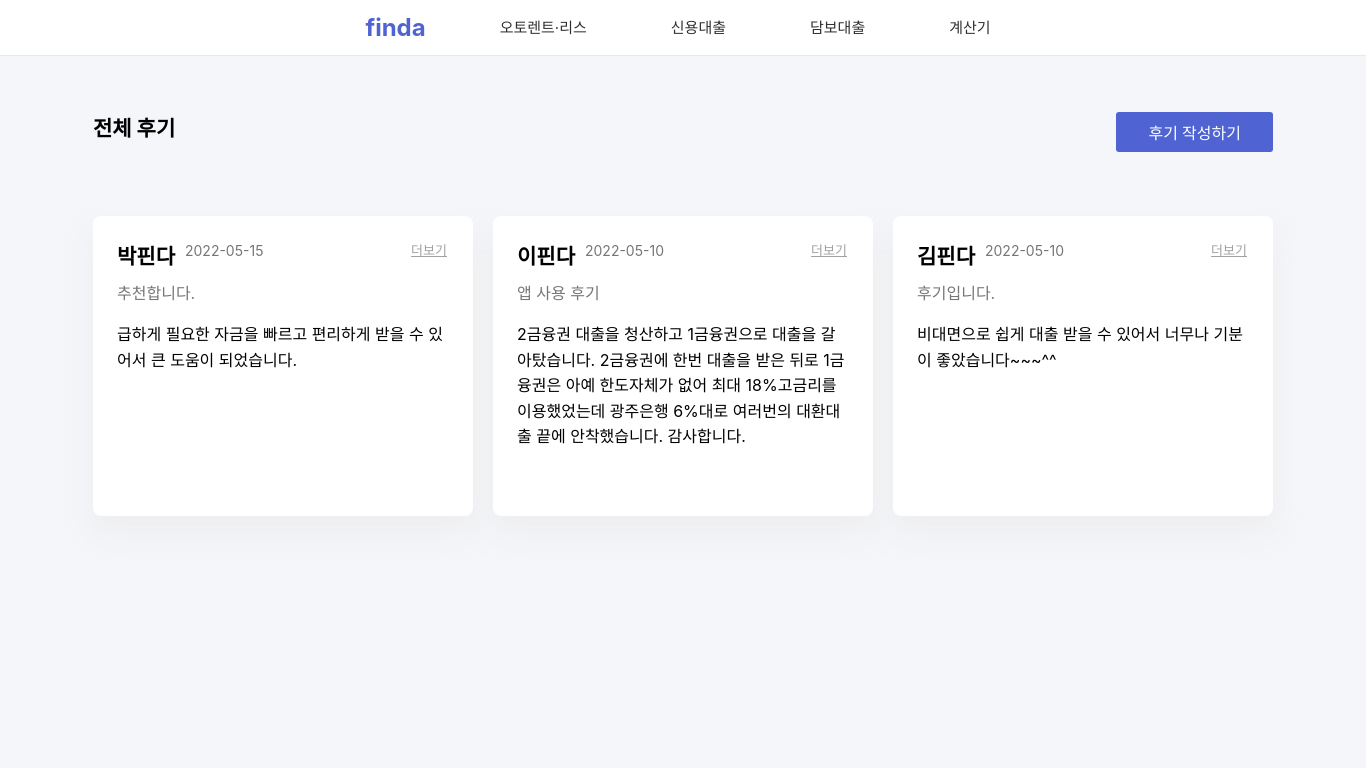
Test: React CRUD › 후기 작성하기
Click the link "후기 작성하기". click: {"x": 1195, "y": 132}
box: [1116, 112, 1273, 152]
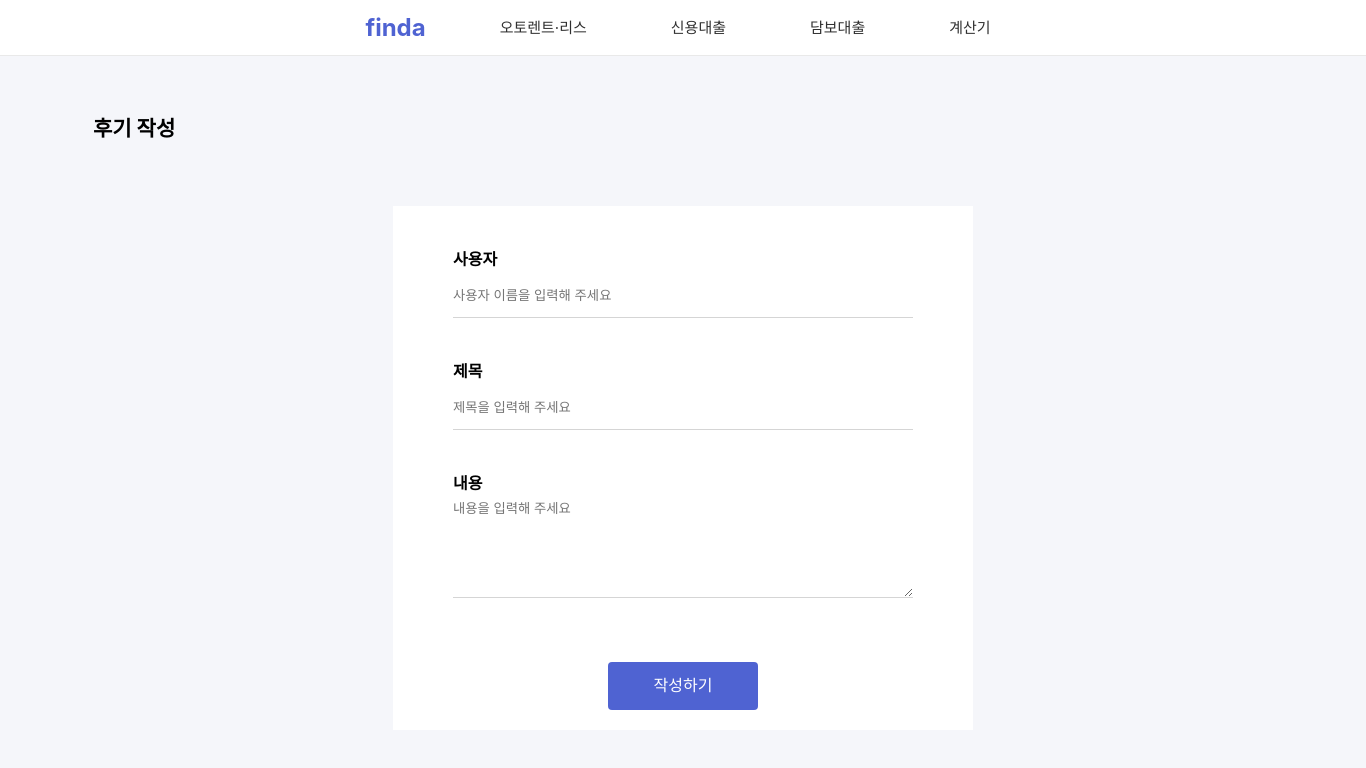
Type "최핀다" into the field with id "user-input". click: {"x": 683, "y": 296}
box: [453, 273, 913, 318]
Then press Enter
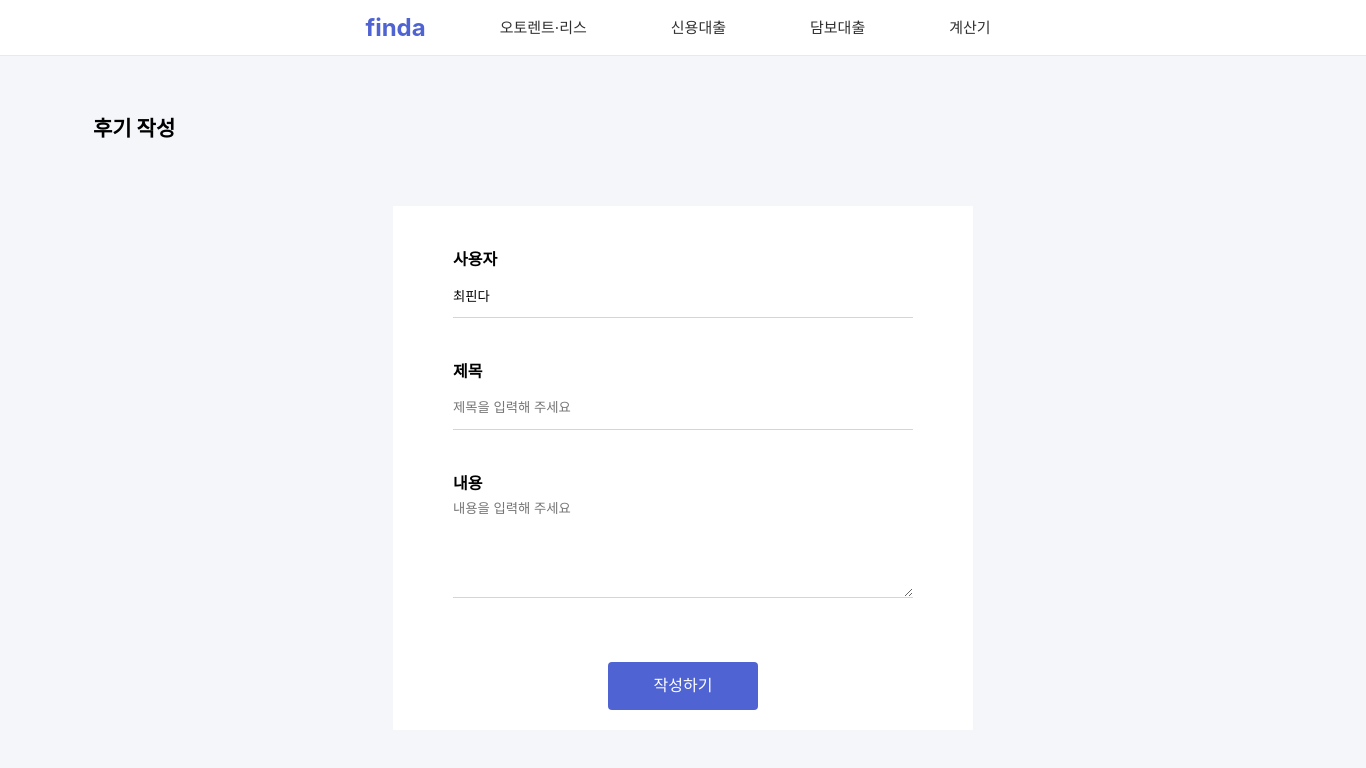
Type "핀다 후기입니다." into the field with id "title-input". click: {"x": 683, "y": 408}
box: [453, 385, 913, 430]
Then press Enter
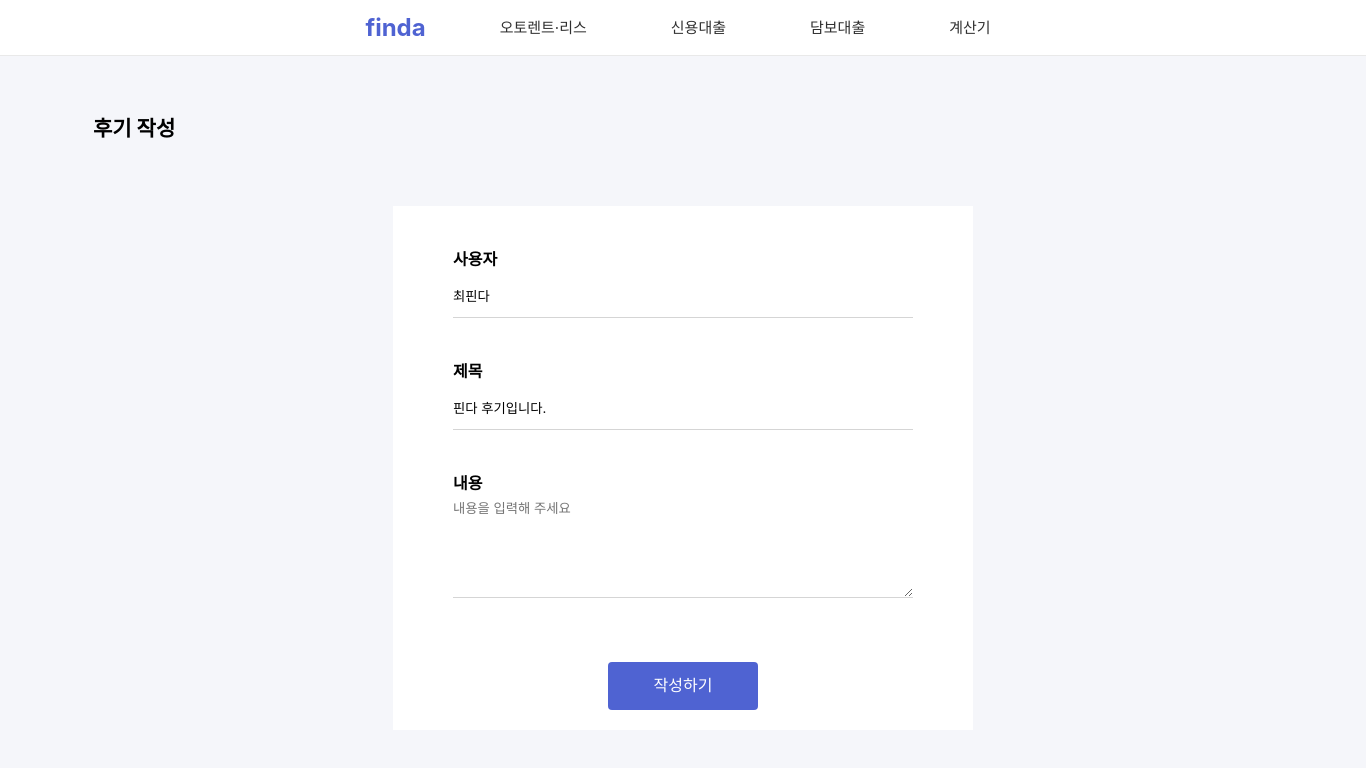
Type "여러 곳을 알아봐도 핀다에서 조회한 상품이 제일 만족스러워서 진행하였고, 결과 또한 만족스러웠습니다." into the text box with id "body-input". click: {"x": 683, "y": 548}
box: [453, 498, 913, 598]
Then press Enter
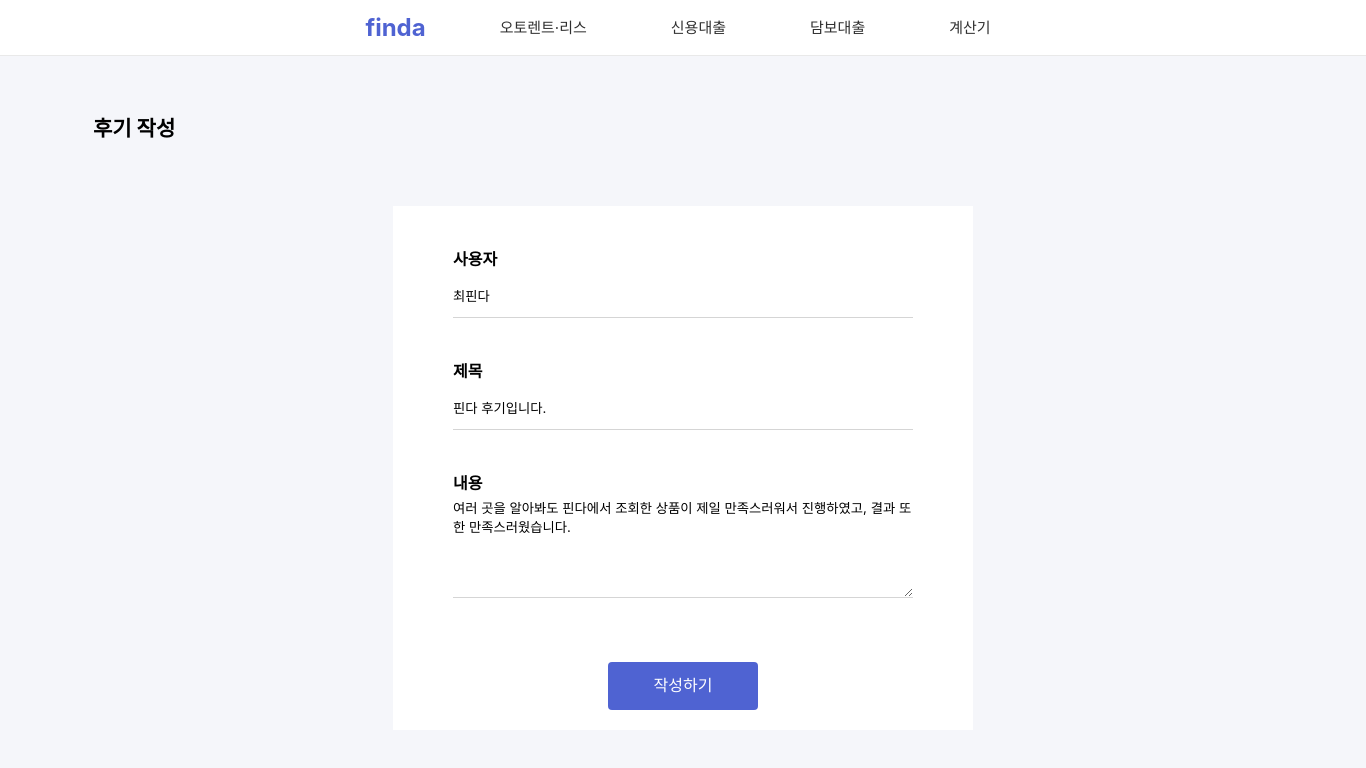
Click the button "작성하기". click: {"x": 683, "y": 686}
box: [608, 662, 758, 710]
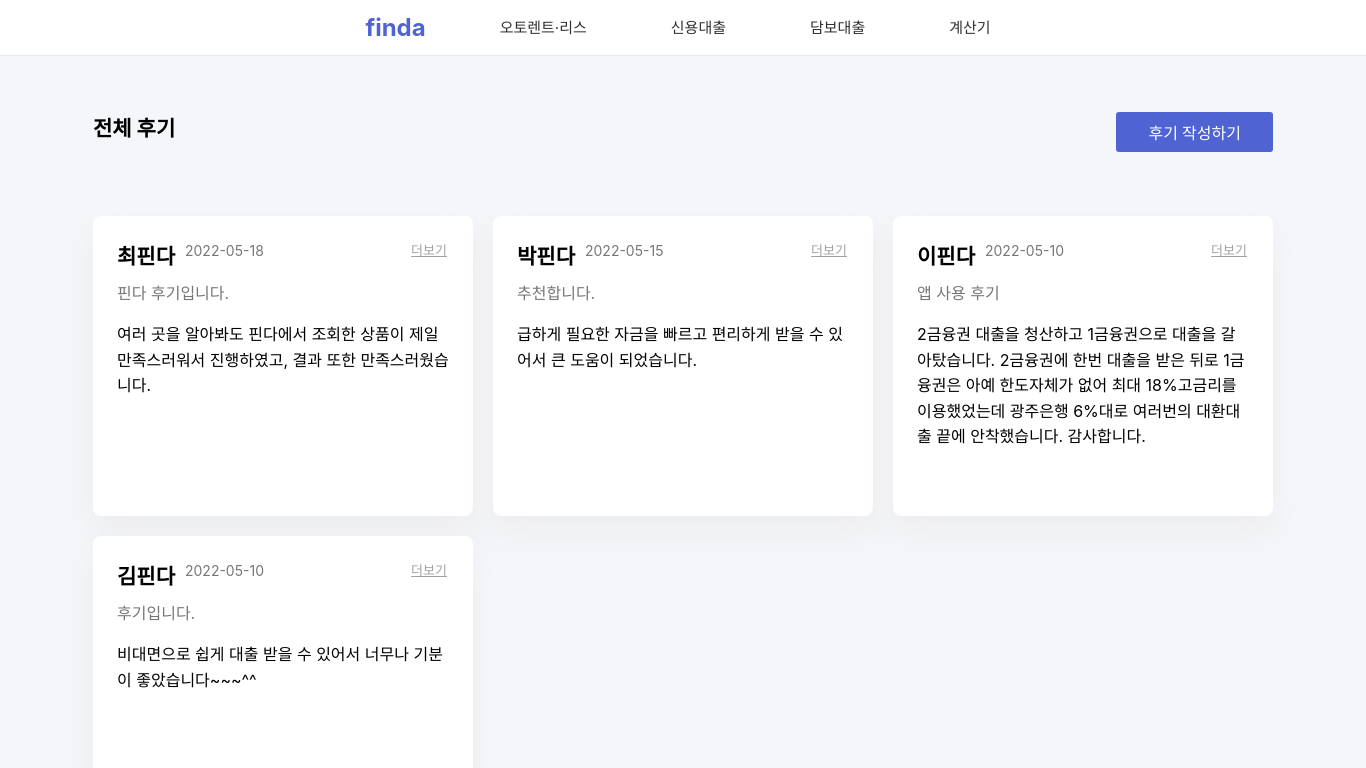
Result: the text "핀다 후기입니다." is shown at [117, 280, 229, 304]
Result: the text "여러 곳을 알아봐도 핀다에서 조회한 상품이 제일 만족스러워서 진행하였고, 결과 또한 만족스러웠습니다." is shown at [117, 322, 449, 399]
Result: the heading "최핀다" is shown at [117, 240, 175, 270]
